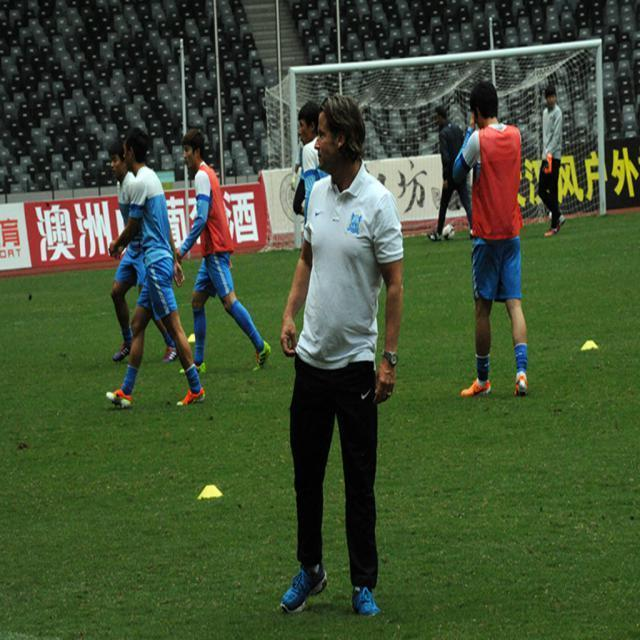ball: (443, 225, 454, 245)
